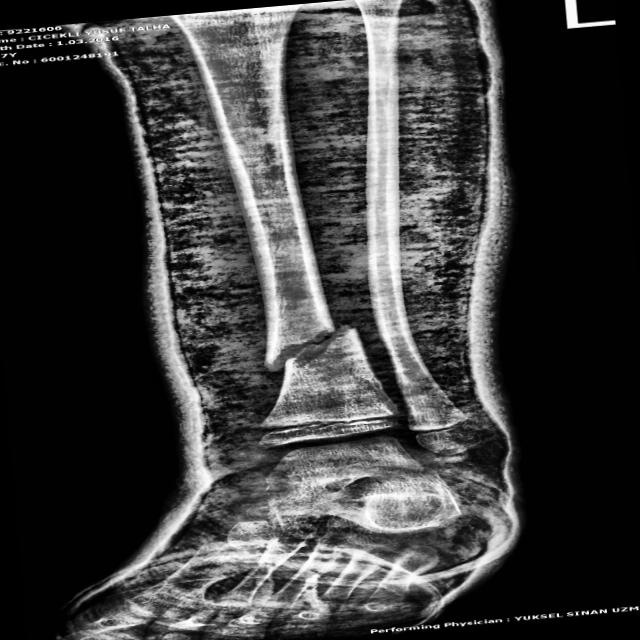Fracture: (246, 303, 362, 378)
